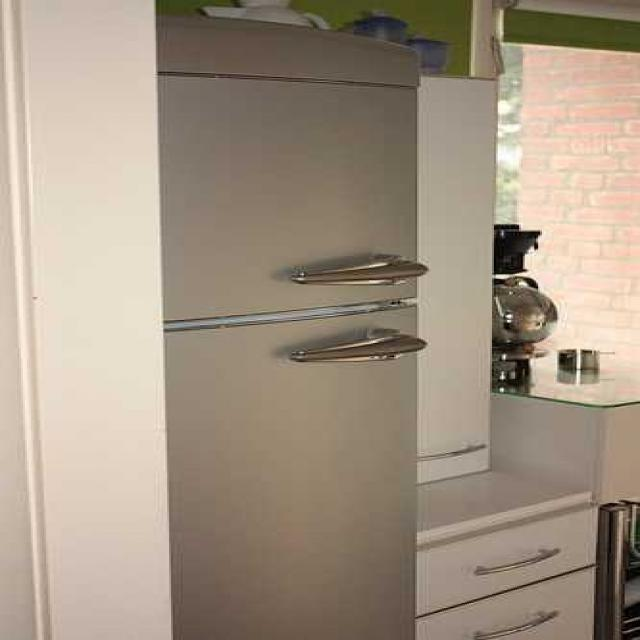refrigerator: (154, 12, 423, 640)
